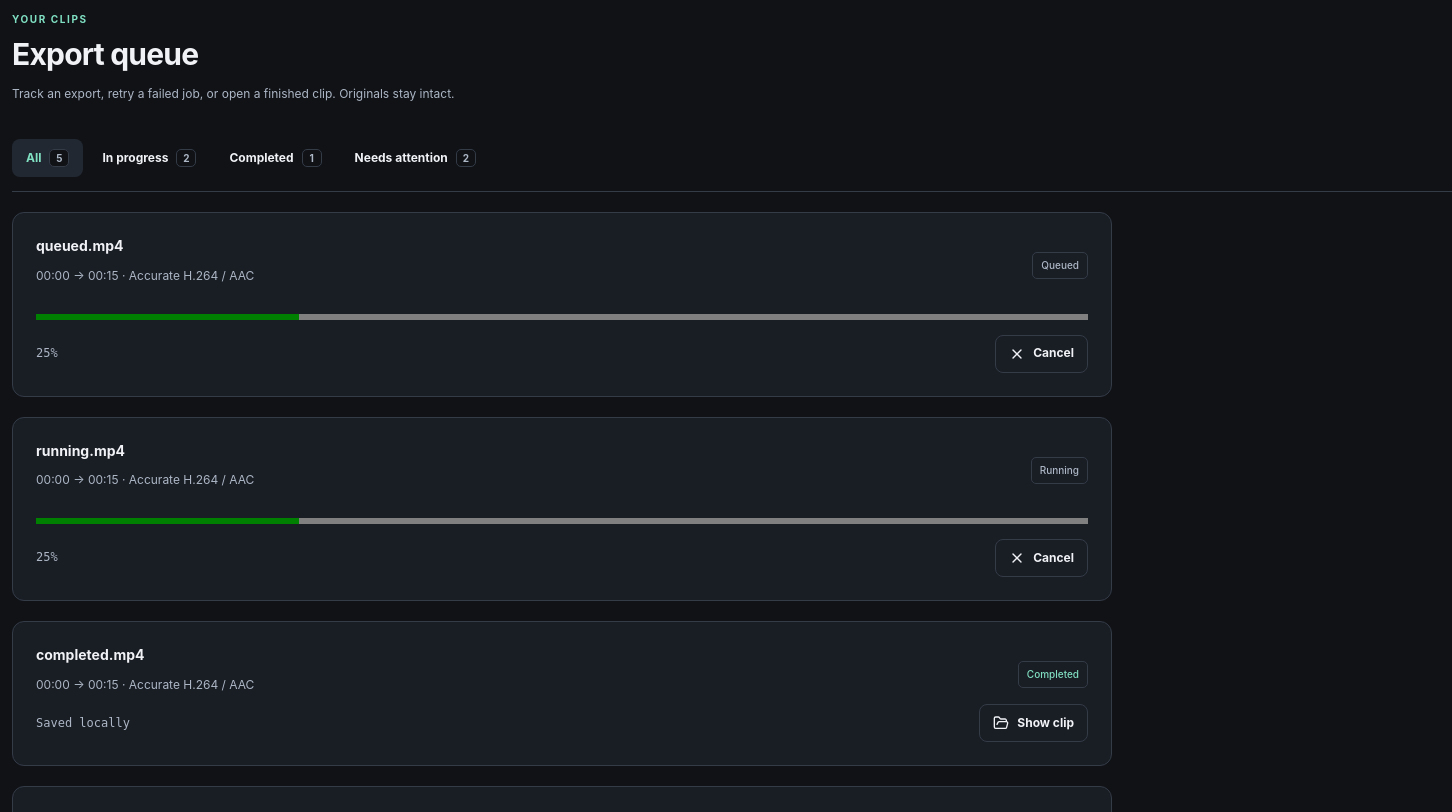
filters real job data without deleting or changing jobs
The width and height of the screenshot is (1452, 812).
Expected: the heading "completed.mp4" is shown, [36, 646, 144, 663]
Click the button with aria-label "Filter exports: Needs attention": coordinates (415, 158) [341, 139, 490, 177]
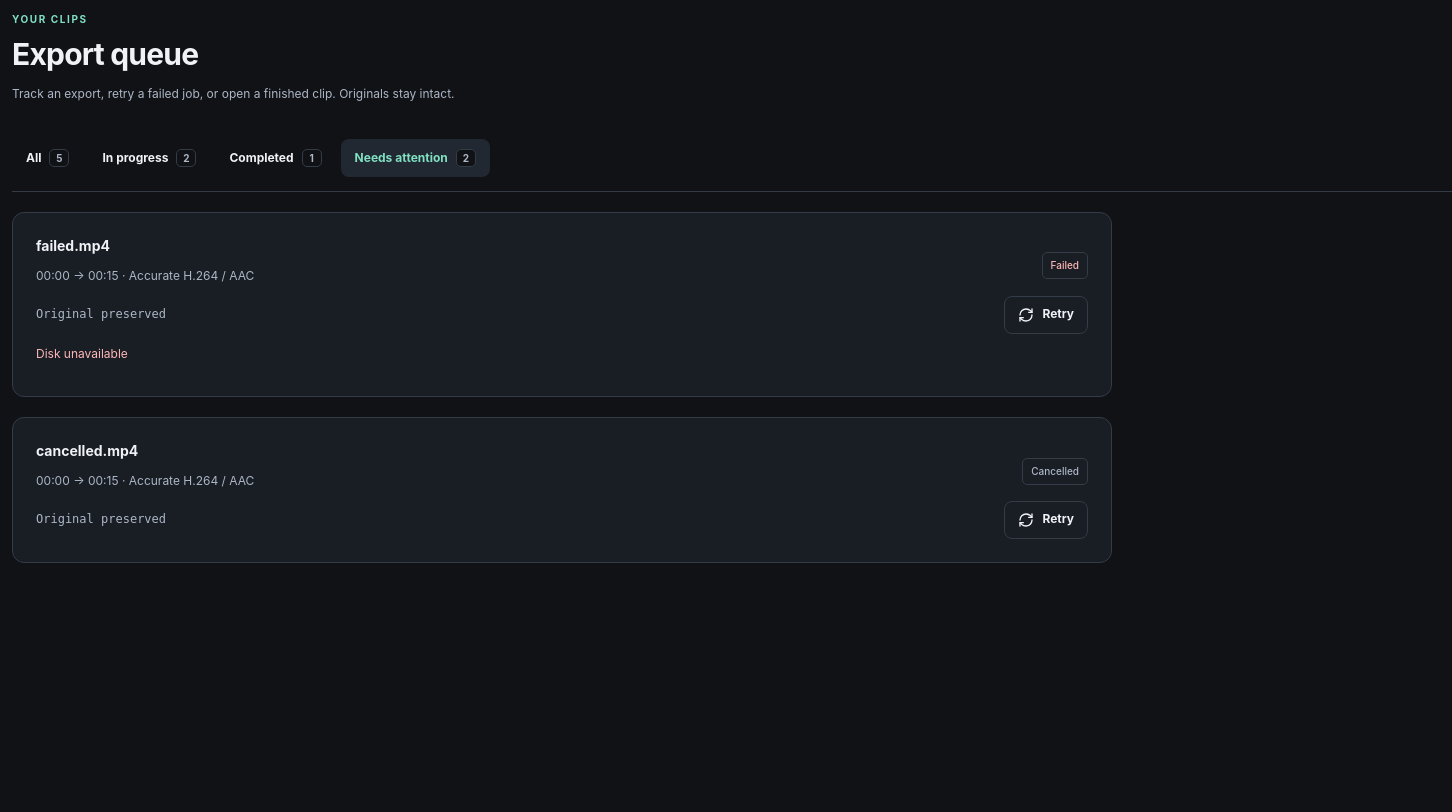
Expected: the heading "failed.mp4" is shown, [36, 237, 110, 254]
Now the heading "completed.mp4" is gone
Click the button with aria-label "Filter exports: Completed": coordinates (276, 158) [215, 139, 336, 177]
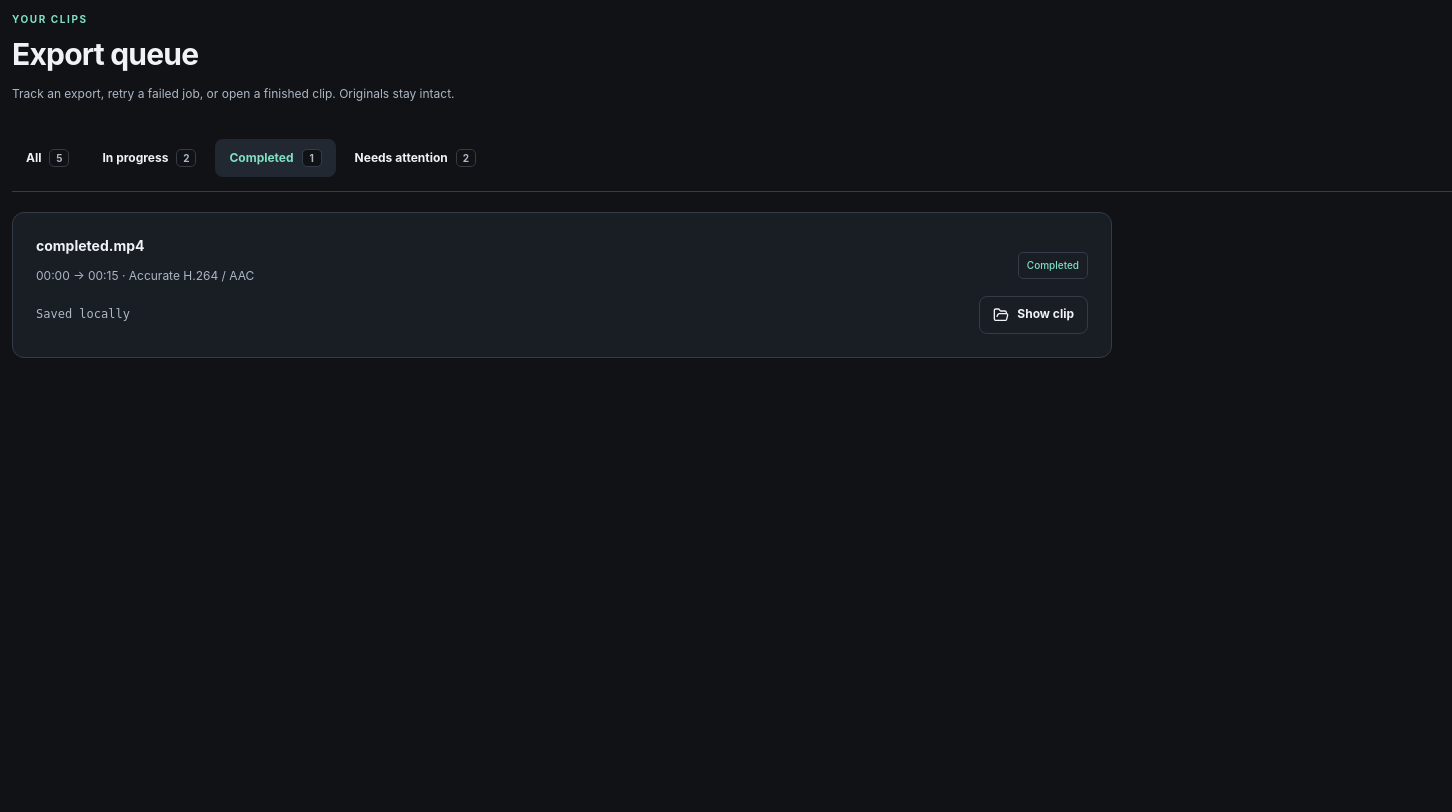
Now the button "Show clip" is enabled, box [979, 296, 1088, 334]
